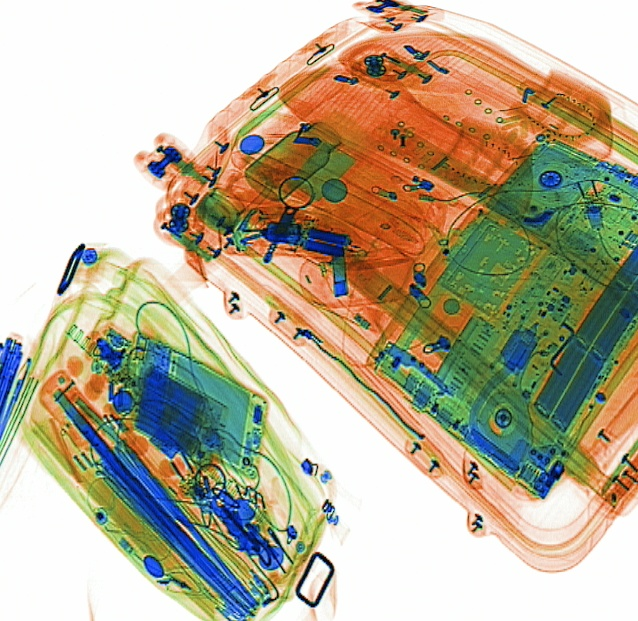powerbank: (130, 361, 230, 468)
